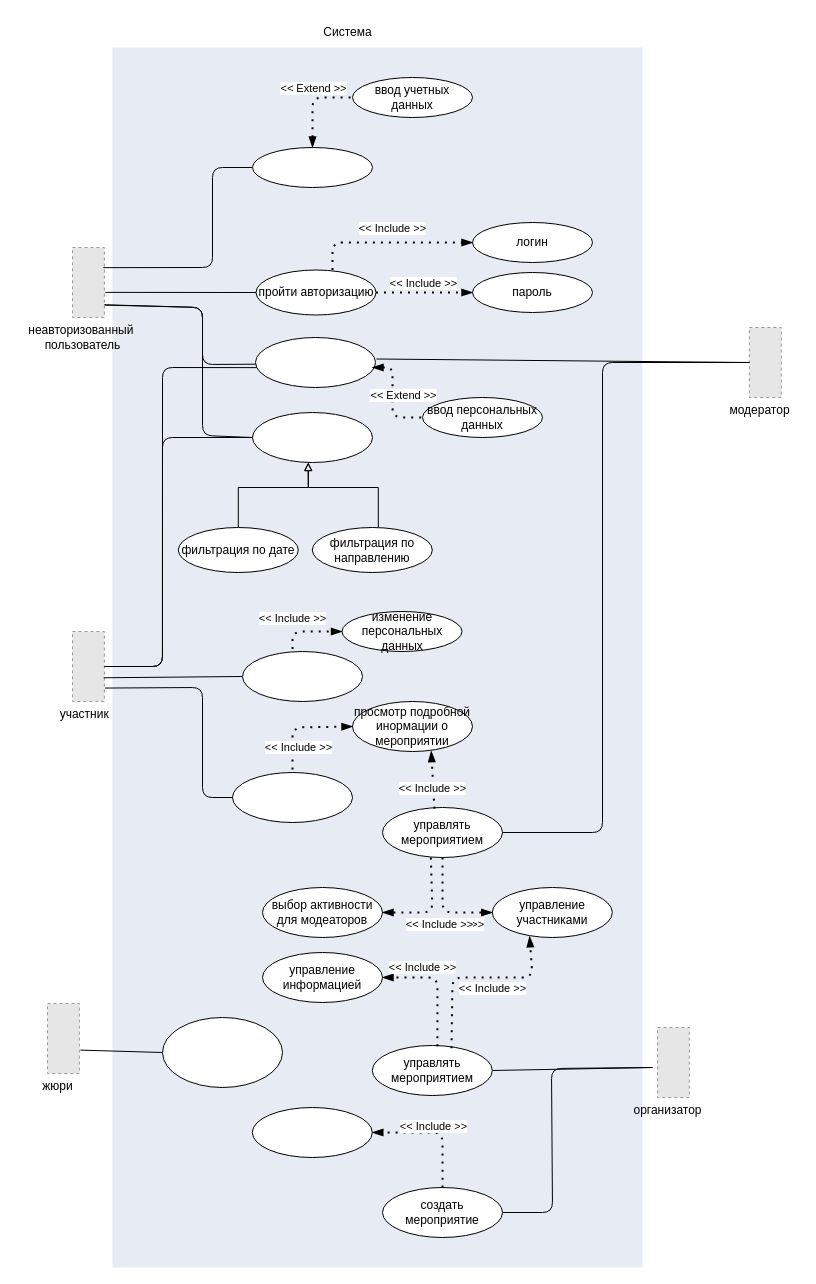
Some shapes in this 816 by 1284 pixel diagram are drawn without their labels. Grey dashed boxes stand in for pictures. Here are the shapes that lost their labels. From the top down, the centre of each, then its label:
At (312,167): "пройти регистрацию".
At (315,362): "подать заявку на участие в мероприятии".
At (312,437): "просмотреть сведения о мероприятиях".
At (302,676): "просмотреть профиль".
At (292,797): "участвовать в мероприятии".
At (222,1052): "просмотреть информацию оцениваемых активностей".
At (311,1132): "добавление активностей".
